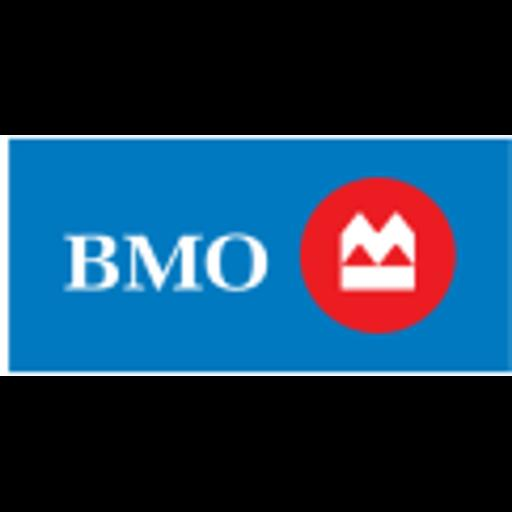Bank of Montreal: (0, 135, 512, 376)
